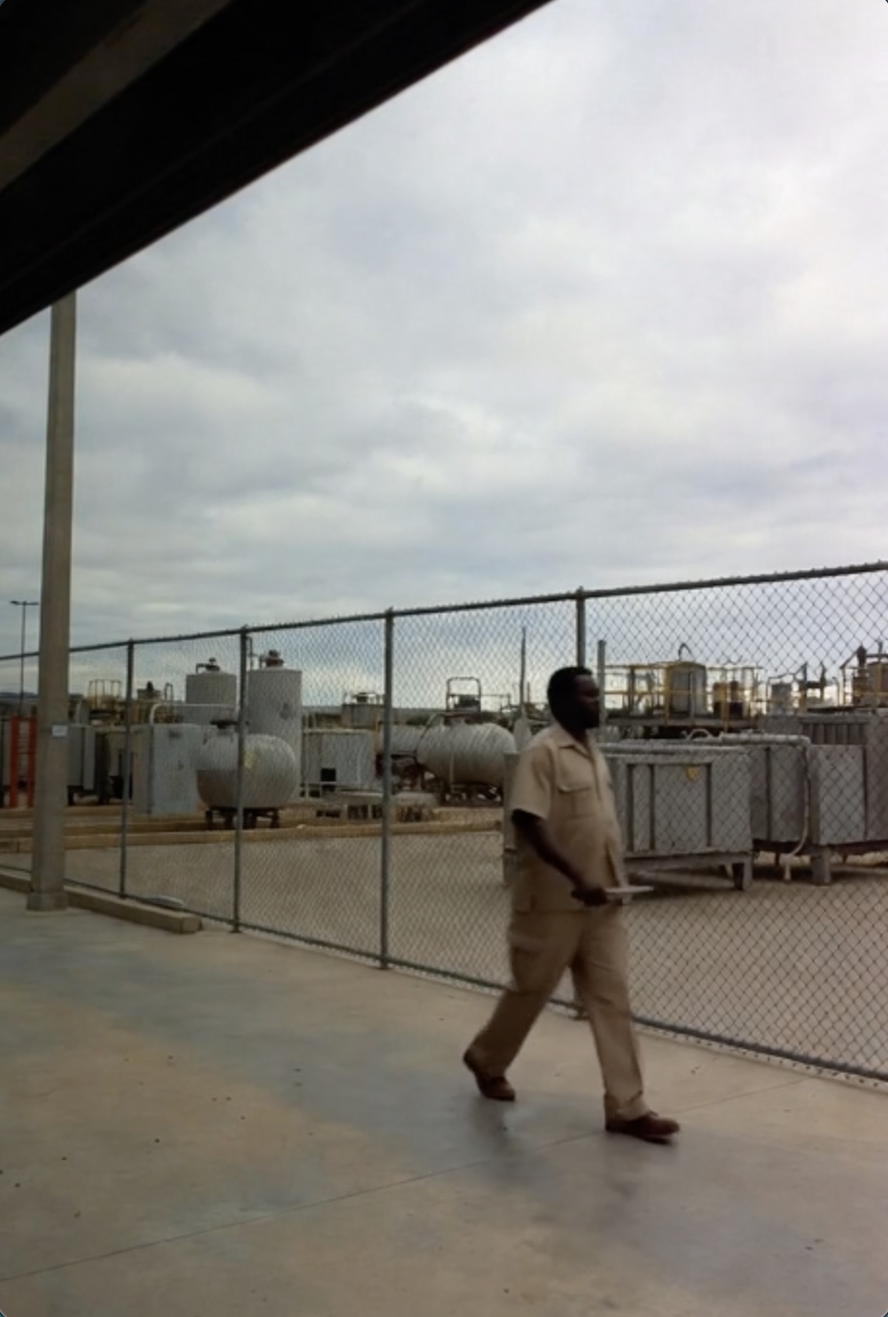Heavy Gun: (460, 664, 697, 1152)
Knife: (570, 871, 661, 914)
